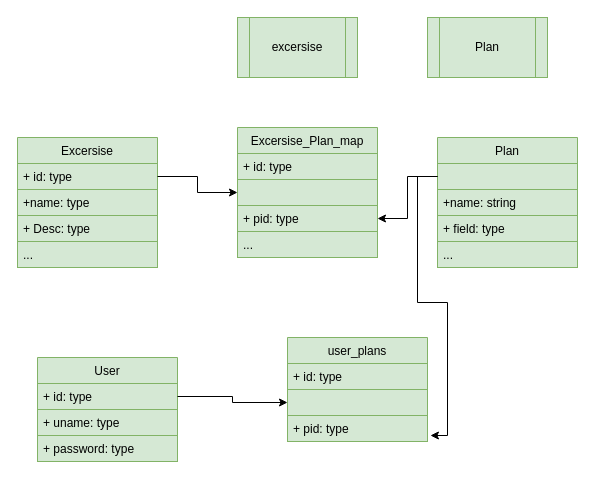
The diagram is 595 pixels wide and 482 high, and some of its shapes have lost their labels. The centre of each missing label's shape, as x and y in pixels:
+ eid: type: point 307,192
+ id: int: point 507,176
+ uid: type: point 357,402
